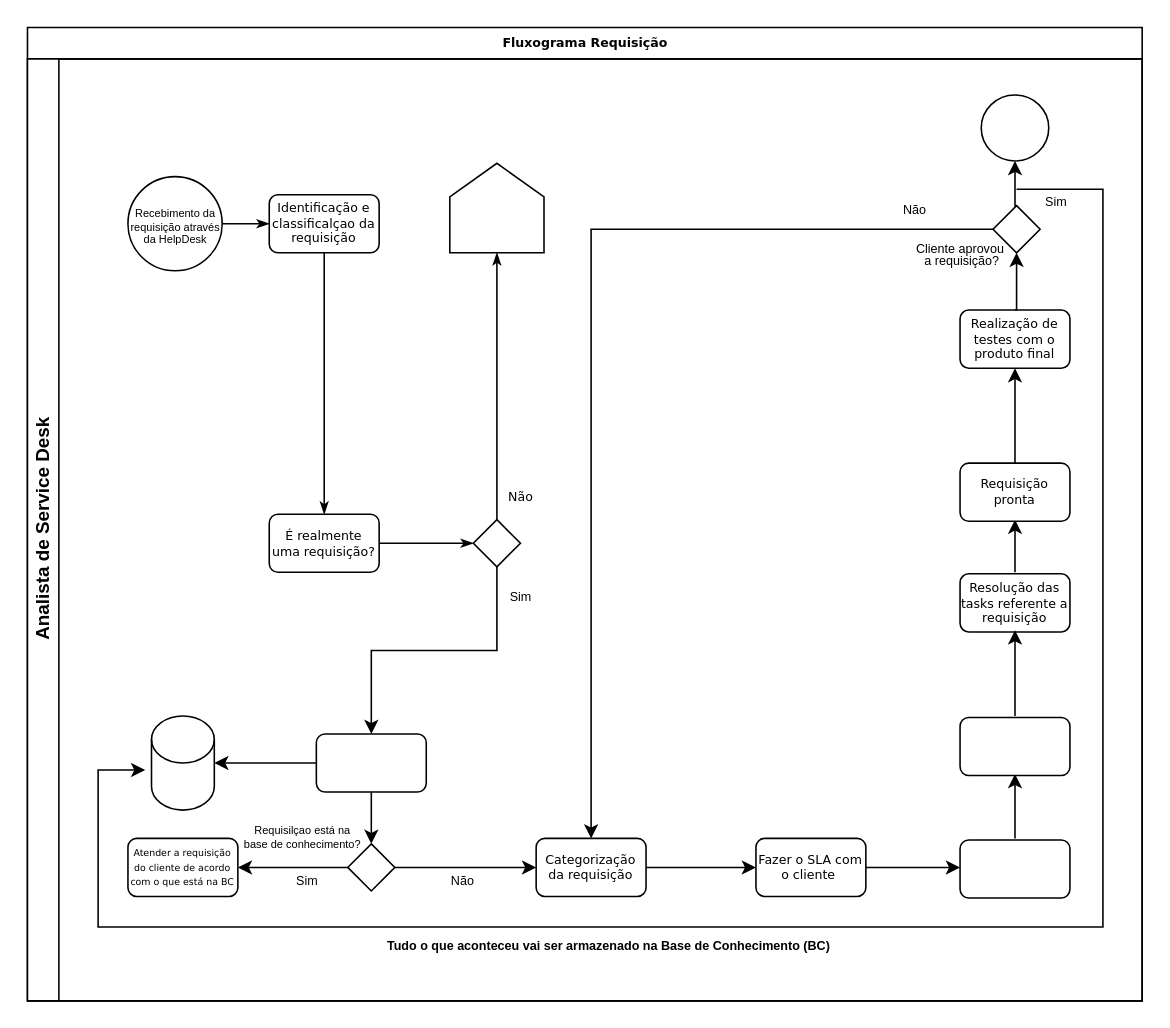
This 1170x1028 diagram has some shape labels left out. The box of each missing label's shape, as (x1, y1, x2, y2) in pixels:
Consultar base de conhecimento: (315, 732, 426, 792)
Encaminhar para o N1 identificar o incidente|problema: (448, 162, 544, 253)
Escalonamento das tasks: (958, 716, 1070, 776)
Fim: (980, 93, 1049, 161)
Priorização das tasks da requisição referente a SLA passada: (958, 838, 1070, 898)
